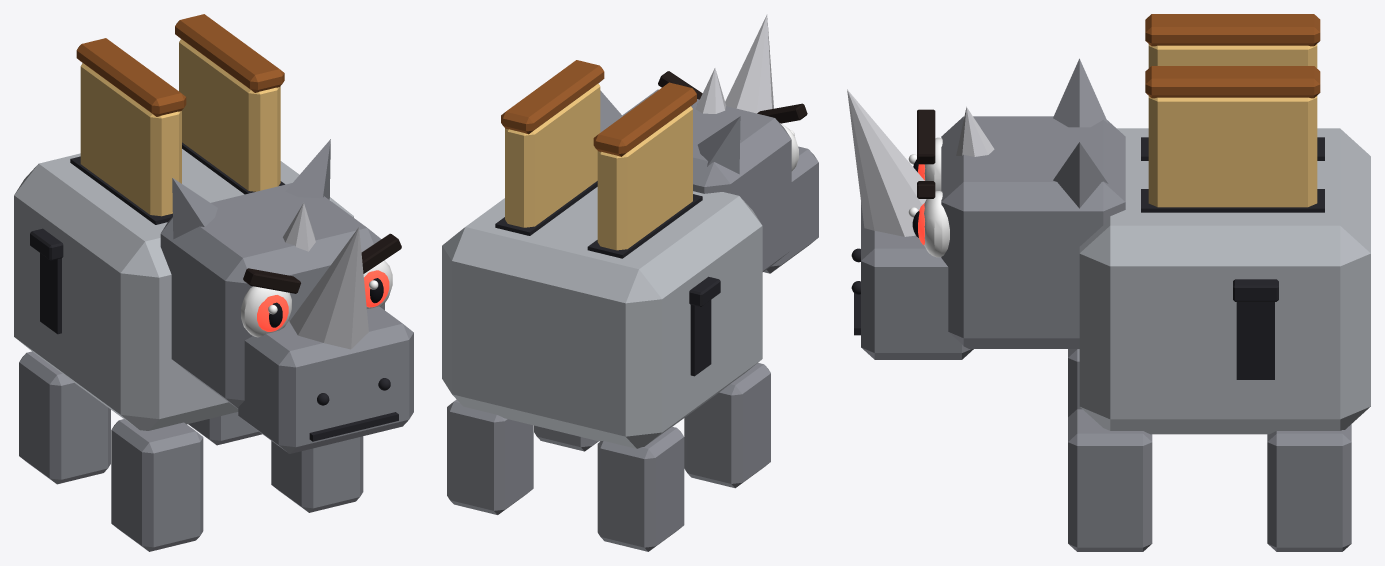
The model's file is Toasterino.fbx.
3 renders of one model, left to right at view 1: azimuth 30°, elevation 25°; view 2: azimuth 150°, elevation 25°; view 3: azimuth 270°, elevation 25°, orthographic. The views are drawn at different scales.
Parts seen in each view (by area): view 1: Toasterino_Torradeira, Toasterino_Cabeca, Toasterino_Focinho, Toasterino_Pata, Toasterino_Torrada_2, Toasterino_Torrada, Toasterino_Pata_3, Toasterino_Pata_2, Toasterino_Chifre, Toasterino_Torrada_Crosta, Toasterino_Torrada_Crosta_2, Toasterino_Orelha_E (+13 smaller); view 2: Toasterino_Torradeira, Toasterino_Torrada, Toasterino_Torrada_2, Toasterino_Pata_3, Toasterino_Cabeca, Toasterino_Pata_4, Toasterino_Pata, Toasterino_Torrada_Crosta, Toasterino_Torrada_Crosta_2, Toasterino_Focinho, Toasterino_Chifre, Toasterino_Orelha_E (+8 smaller); view 3: Toasterino_Torradeira, Toasterino_Cabeca, Toasterino_Torrada_2, Toasterino_Focinho, Toasterino_Pata_2, Toasterino_Pata_4, Toasterino_Chifre, Toasterino_Torrada_Crosta, Toasterino_Torrada_Crosta_2, Toasterino_Torrada, Toasterino_Fenda_Lado_2, Toasterino_Orelha_E (+7 smaller).
Boxes of the visible parts, box(x1,y1,x2,y2) form: Toasterino_Torradeira: box(14, 149, 353, 430); Toasterino_Cabeca: box(160, 183, 384, 408); Toasterino_Focinho: box(238, 306, 413, 453); Toasterino_Pata: box(111, 419, 203, 551); Toasterino_Torrada_2: box(179, 39, 280, 191); Toasterino_Torrada: box(80, 63, 181, 216); Toasterino_Pata_3: box(19, 351, 110, 484); Toasterino_Pata_2: box(271, 436, 363, 512); Toasterino_Chifre: box(289, 227, 368, 349); Toasterino_Torrada_Crosta: box(76, 38, 186, 116); Toasterino_Torrada_Crosta_2: box(175, 14, 284, 92); Toasterino_Orelha_E: box(172, 178, 217, 239); Toasterino_Torradeira: box(442, 187, 762, 448); Toasterino_Torrada: box(597, 106, 692, 250); Toasterino_Torrada_2: box(505, 83, 600, 227); Toasterino_Pata_3: box(597, 426, 684, 551); Toasterino_Cabeca: box(622, 89, 791, 271); Toasterino_Pata_4: box(447, 399, 533, 514); Toasterino_Pata: box(684, 363, 770, 488); Toasterino_Torrada_Crosta: box(593, 82, 696, 156); Toasterino_Torrada_Crosta_2: box(501, 60, 604, 134); Toasterino_Focinho: box(764, 146, 818, 273); Toasterino_Chifre: box(725, 14, 773, 113); Toasterino_Orelha_E: box(697, 116, 740, 174); Toasterino_Torradeira: box(1079, 128, 1370, 434); Toasterino_Cabeca: box(941, 116, 1125, 348); Toasterino_Torrada_2: box(1148, 96, 1317, 207); Toasterino_Focinho: box(861, 202, 973, 359); Toasterino_Pata_2: box(1068, 409, 1152, 551); Toasterino_Pata_4: box(1267, 424, 1351, 551); Toasterino_Chifre: box(847, 89, 926, 236); Toasterino_Torrada_Crosta: box(1145, 14, 1320, 46); Toasterino_Torrada_Crosta_2: box(1145, 66, 1320, 98); Toasterino_Torrada: box(1148, 44, 1317, 68); Toasterino_Fenda_Lado_2: box(1236, 302, 1274, 379); Toasterino_Orelha_E: box(1053, 58, 1108, 127).
Size of the model in its own units: 107 by 164 by 172.
